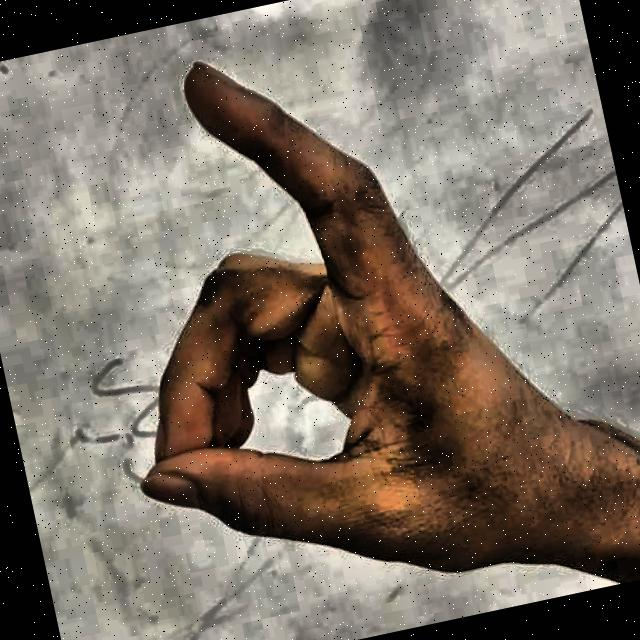Dha: (44, 0, 618, 640)
